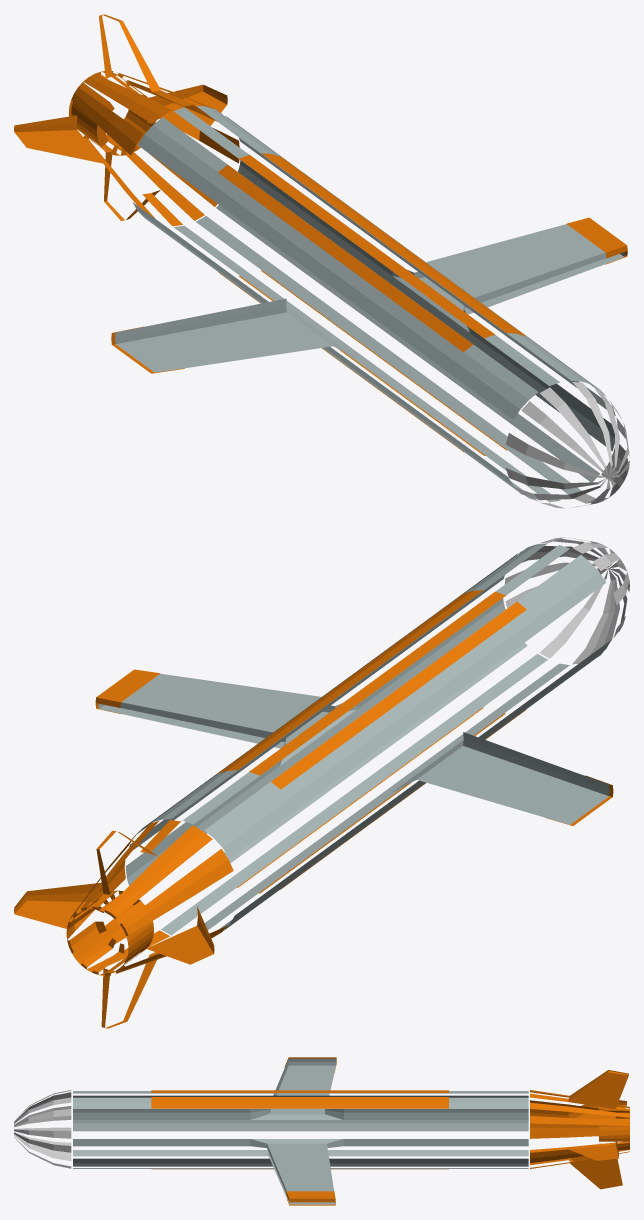
Rendered from Cruise Missile.glb.
3 renders of one model, top to bottom at view 1: azimuth 30°, elevation 25°; view 2: azimuth 150°, elevation 25°; view 3: azimuth 270°, elevation 25°, orthographic. The views are drawn at different scales.
Visible parts, largest first — view 1: head; view 2: head; view 3: head.
Part boxes in pixels (x1,y1,x2,y2): head: (14,14,629,508); head: (14,537,629,1028); head: (14,1057,629,1205).
Size of the model in its own units: 1.44 by 0.5582 by 2.65.
